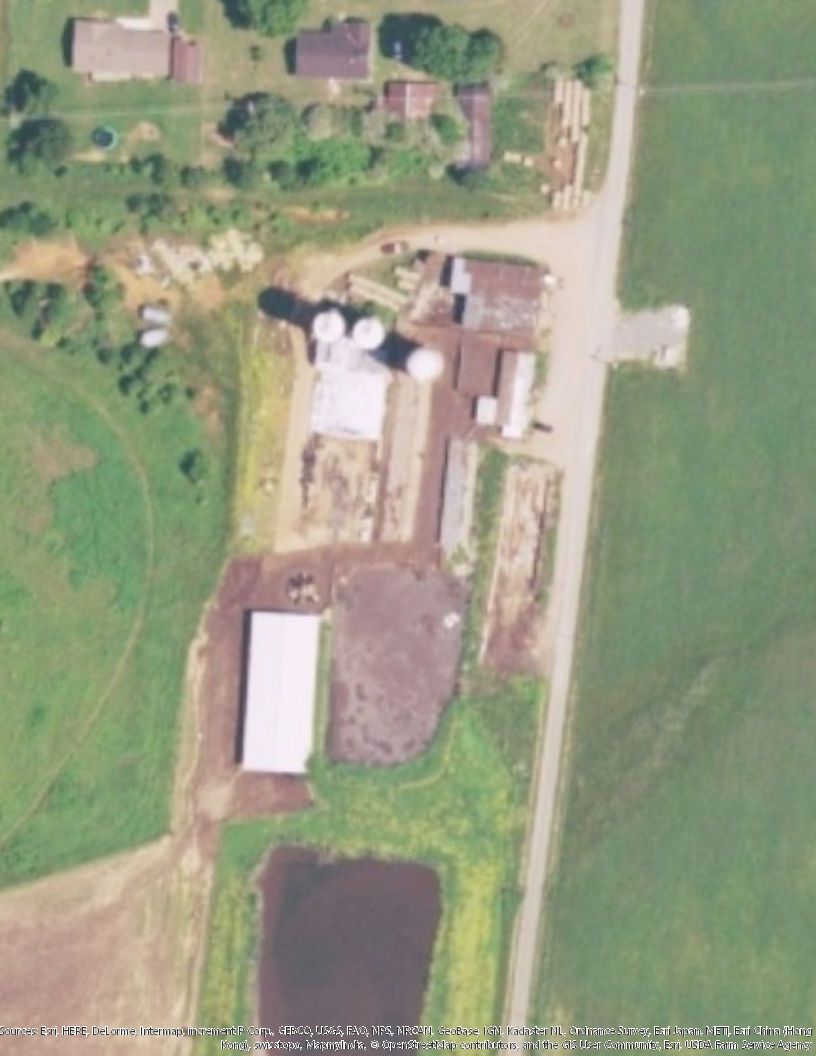cafo: (229, 599, 334, 782)
